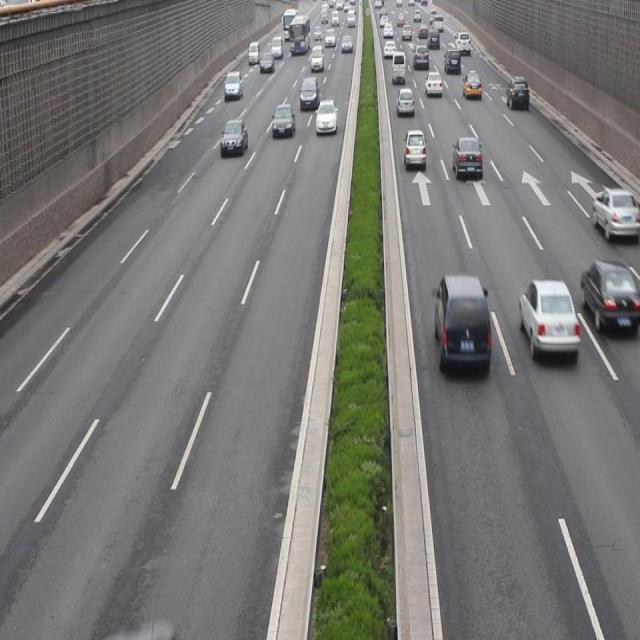car: (518, 277, 579, 364), (578, 256, 640, 339), (590, 187, 640, 241), (451, 137, 480, 178), (220, 116, 246, 154), (402, 131, 425, 170), (271, 105, 295, 139)
truck: (431, 274, 490, 378)
